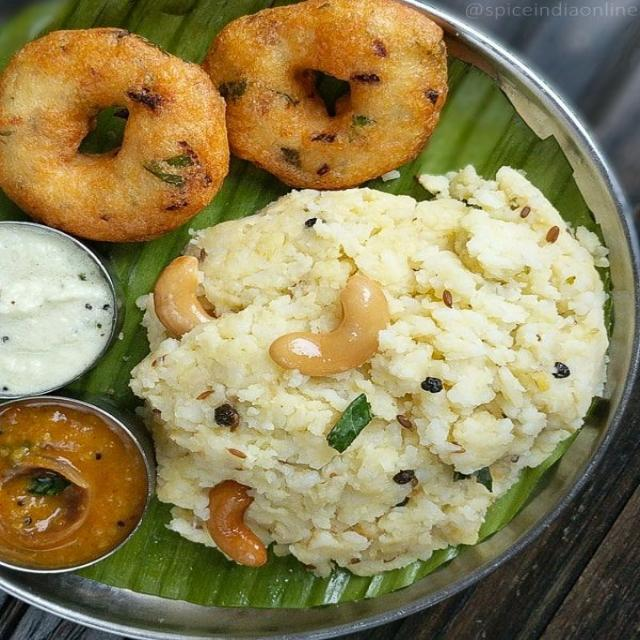khara pongal: (118, 153, 622, 592)
